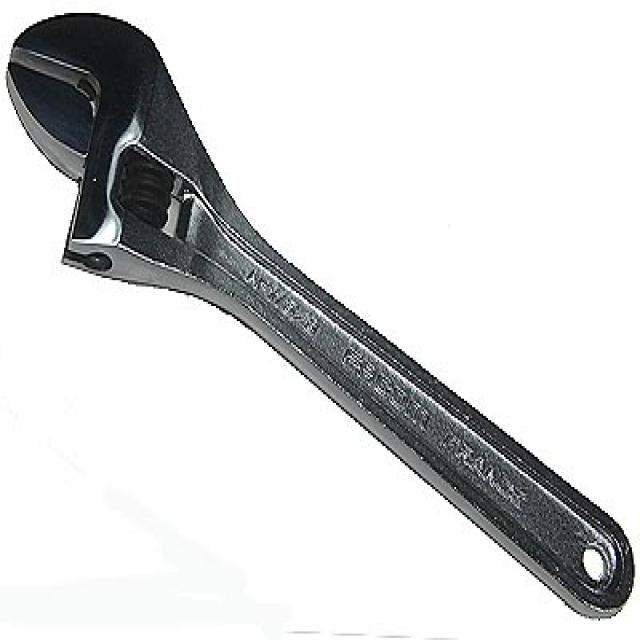wrench: (1, 0, 640, 615)
